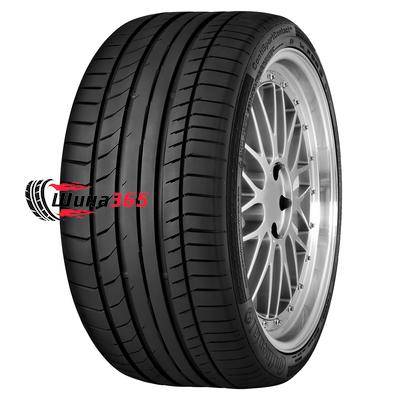objects: (24, 178, 149, 222)
